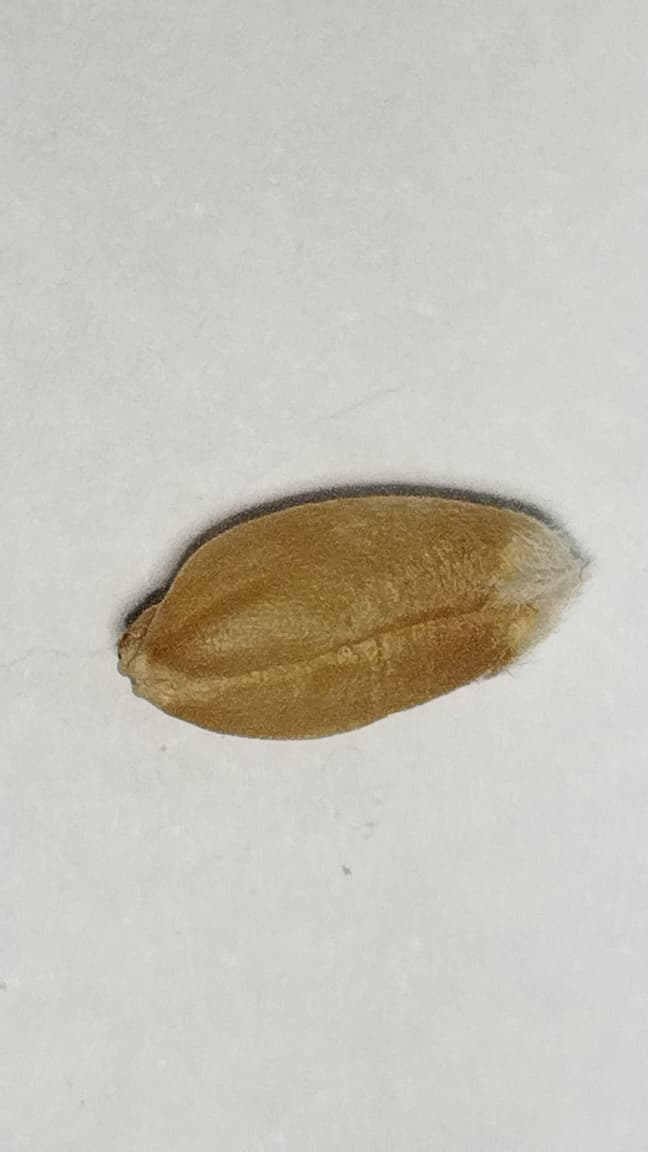healthy: (119, 485, 586, 737)
